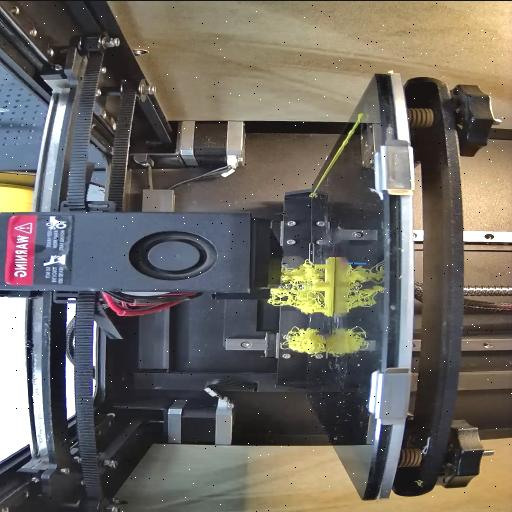spaghetti: (272, 268, 322, 312), (280, 324, 327, 352)
